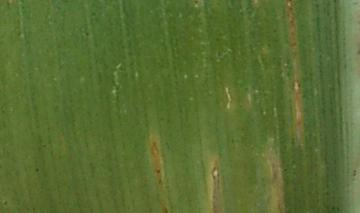tarspot: (351, 166, 359, 181), (34, 166, 42, 175), (190, 1, 202, 6), (2, 199, 8, 207)
